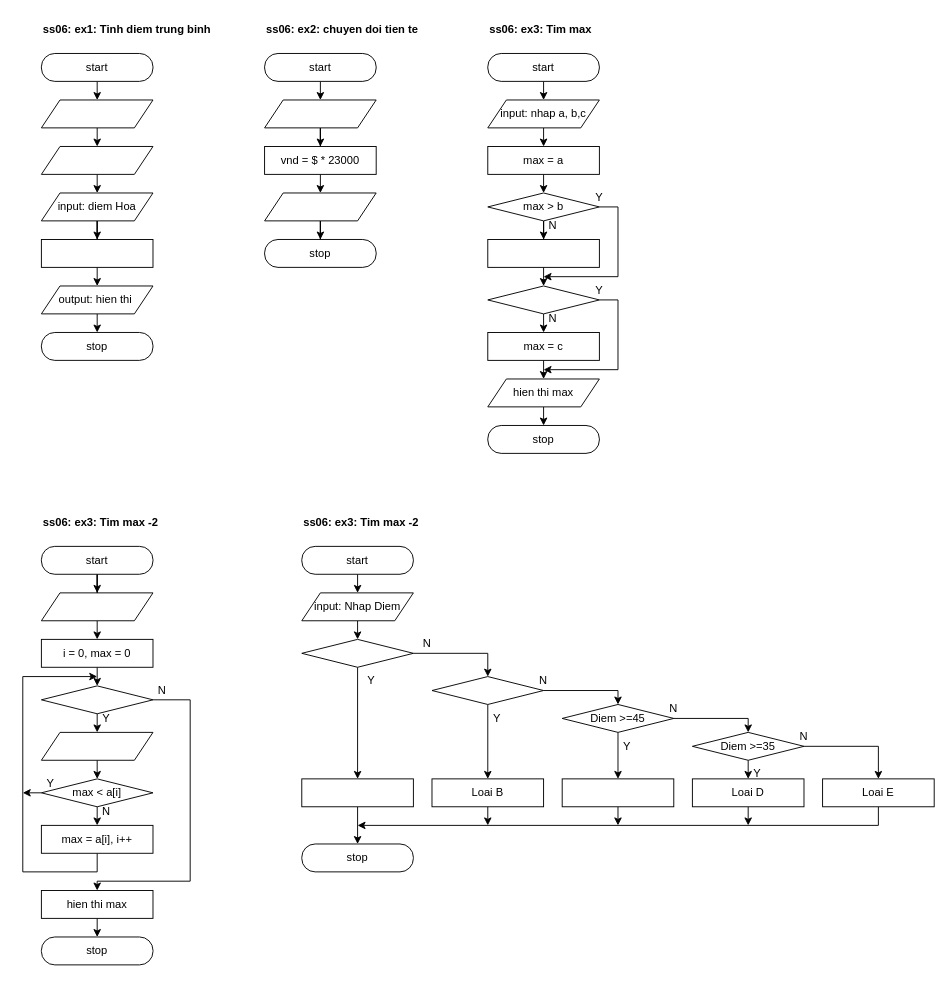
The diagram is 950 pixels wide and 981 high, and some of its shapes have lost their labels. Each missing label, with the box of its shape:
Diem >= 75: (301, 638, 413, 667)
Diem >=60: (431, 676, 544, 704)
hien thi vnd: (264, 192, 376, 221)
i < N: (40, 685, 153, 714)
input: diem Ly: (40, 146, 153, 174)
input: diem Toan: (40, 99, 153, 128)
input: nhap $: (264, 99, 376, 128)
input: Nhap a[i]: (40, 731, 153, 760)
input: Nhap N: (40, 592, 153, 621)
Loai A: (301, 778, 413, 807)
Loai C: (561, 778, 674, 807)
max = b: (487, 239, 599, 267)
max > c: (487, 285, 599, 314)
Tinh trung binh: (40, 239, 153, 267)
